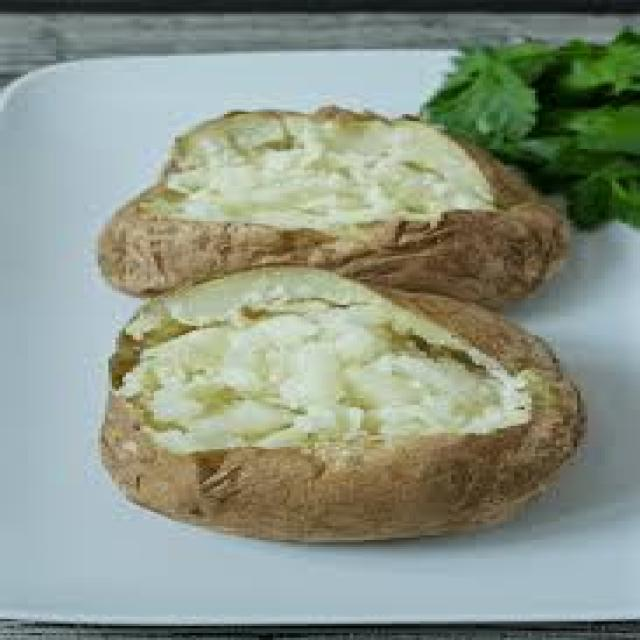Baked Potato: (163, 128, 590, 509)
